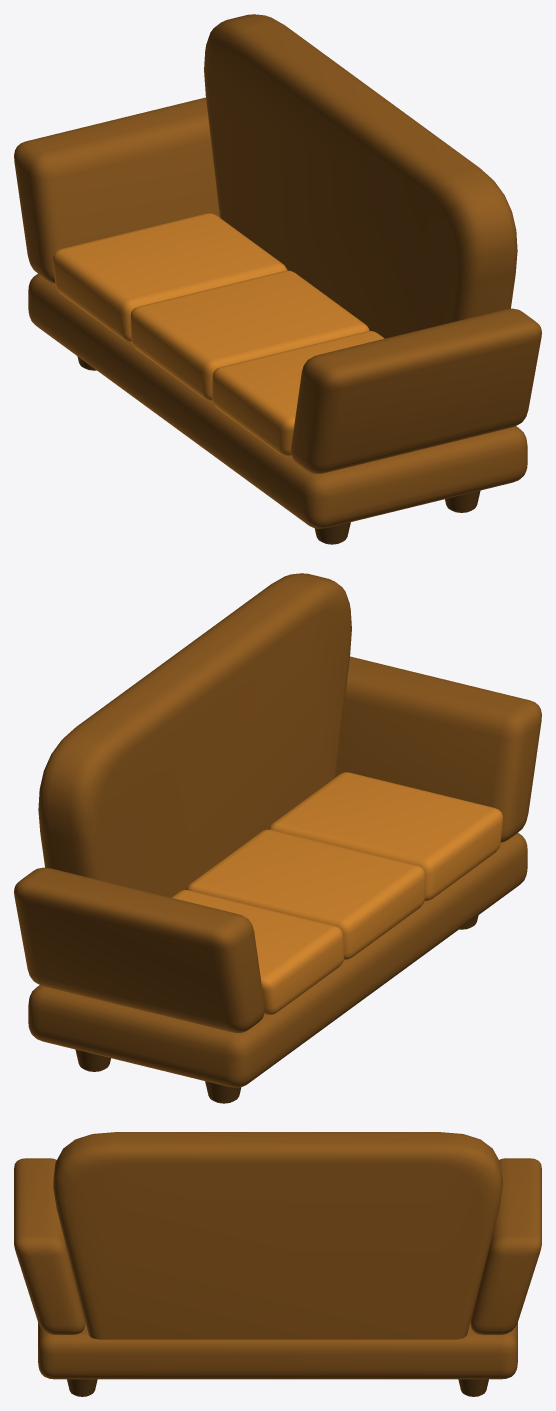
File: Prop_LargeCouch.FBX
The picture shows the model from 3 angles, top to bottom: view 1: azimuth 30°, elevation 25°; view 2: azimuth 150°, elevation 25°; view 3: azimuth 270°, elevation 25°; orthographic projection. The views are drawn at different scales.
Parts seen in each view (by area): view 1: Prop_CouchLarge; view 2: Prop_CouchLarge; view 3: Prop_CouchLarge.
Part boxes in pixels (<box>): Prop_CouchLarge: <box>14,14,541,544</box>; Prop_CouchLarge: <box>14,573,541,1103</box>; Prop_CouchLarge: <box>14,1132,541,1396</box>.
Size of the model in its own units: 85 by 117 by 214.
1 material, 1 textured.
